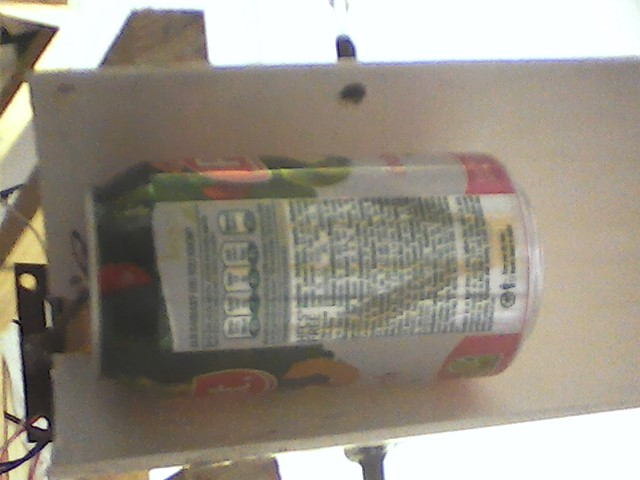lata: (75, 149, 546, 399)
